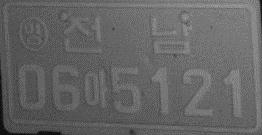0: (16, 62, 47, 110)
1: (219, 68, 250, 118), (147, 66, 176, 116)
2: (180, 67, 214, 116)
5: (110, 66, 142, 114)
6: (51, 63, 80, 113)
아: (83, 67, 108, 109)
영: (18, 15, 49, 52)
전남_D: (61, 14, 192, 54)
